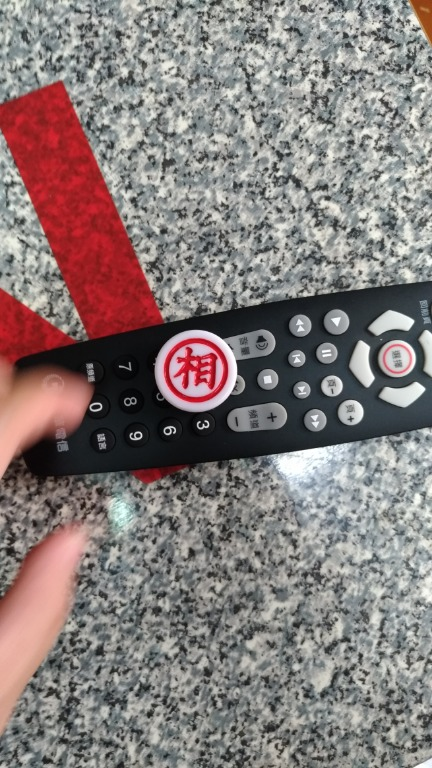r-elephant: (138, 322, 250, 421)
